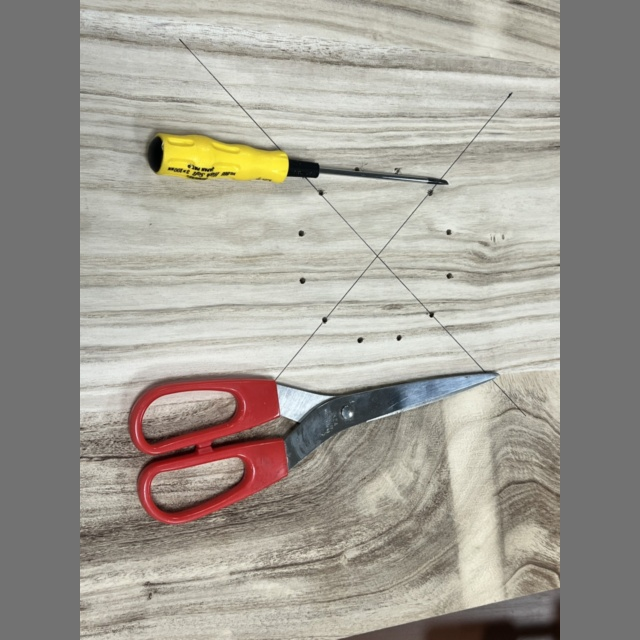scissor: (129, 372, 498, 524)
screwdriver: (147, 133, 448, 186)
